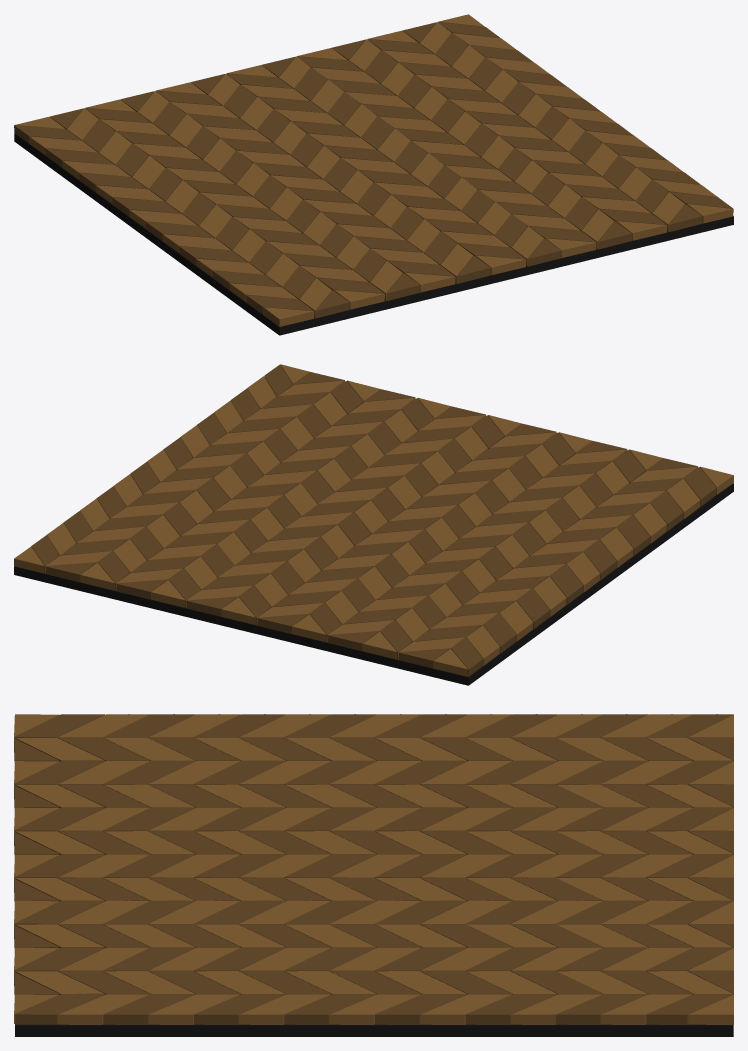
The model's file is floor_tier8.fbx.
3 renders of one model, top to bottom at view 1: azimuth 30°, elevation 25°; view 2: azimuth 150°, elevation 25°; view 3: azimuth 270°, elevation 25°, orthographic. The views are drawn at different scales.
Visible parts, largest first — view 1: Cube, Cube.009, Cube.013, Cube.002, Cube.005, Cube.010, Cube.006, Cube.003, Cube.007, Cube.015, Cube.014, Cube.004 (+196 smaller); view 2: Cube, Cube.006, Cube.009, Cube.014, Cube.011, Cube.008, Cube.004, Cube.005, Cube.010, Cube.015, Cube.002, Cube.003 (+194 smaller); view 3: Cube, Cube.209, Cube.216, Cube.213, Cube.214, Cube.219, Cube.211, Cube.208, Cube.212, Cube.215, Cube.218, Cube.207 (+210 smaller).
Boxes of the visible parts, left/top/right/bottom form: Cube: left=14, top=133, right=733, bottom=335; Cube.009: left=112, top=197, right=181, bottom=216; Cube.013: left=62, top=160, right=130, bottom=179; Cube.002: left=229, top=283, right=298, bottom=301; Cube.005: left=179, top=246, right=247, bottom=264; Cube.010: left=95, top=185, right=164, bottom=203; Cube.006: left=162, top=234, right=231, bottom=252; Cube.003: left=212, top=271, right=281, bottom=289; Cube.007: left=145, top=222, right=214, bottom=240; Cube.015: left=29, top=136, right=97, bottom=154; Cube.014: left=45, top=148, right=114, bottom=167; Cube.004: left=196, top=258, right=264, bottom=277; Cube: left=14, top=483, right=733, bottom=685; Cube.006: left=600, top=527, right=633, bottom=567; Cube.009: left=550, top=564, right=583, bottom=604; Cube.014: left=483, top=613, right=516, bottom=653; Cube.011: left=516, top=589, right=549, bottom=629; Cube.008: left=566, top=552, right=600, bottom=592; Cube.004: left=633, top=503, right=666, bottom=543; Cube.005: left=616, top=515, right=650, bottom=555; Cube.010: left=533, top=576, right=566, bottom=616; Cube.015: left=466, top=625, right=499, bottom=665; Cube.002: left=667, top=478, right=700, bottom=518; Cube.003: left=650, top=491, right=683, bottom=531; Cube: left=15, top=1024, right=733, bottom=1036; Cube.209: left=148, top=994, right=240, bottom=1024; Cube.216: left=465, top=994, right=557, bottom=1024; Cube.213: left=329, top=994, right=421, bottom=1024; Cube.214: left=375, top=994, right=466, bottom=1024; Cube.219: left=601, top=994, right=692, bottom=1024; Cube.211: left=239, top=994, right=330, bottom=1024; Cube.208: left=103, top=994, right=195, bottom=1024; Cube.212: left=284, top=994, right=376, bottom=1024; Cube.215: left=420, top=994, right=512, bottom=1024; Cube.218: left=555, top=994, right=647, bottom=1024; Cube.207: left=58, top=994, right=149, bottom=1024.
Bounding box in the file's own units: 655 × 22.55 × 663.
